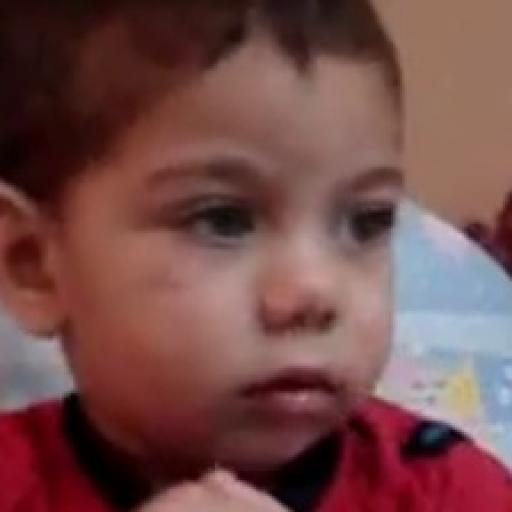Autism: (29, 34, 512, 511)
